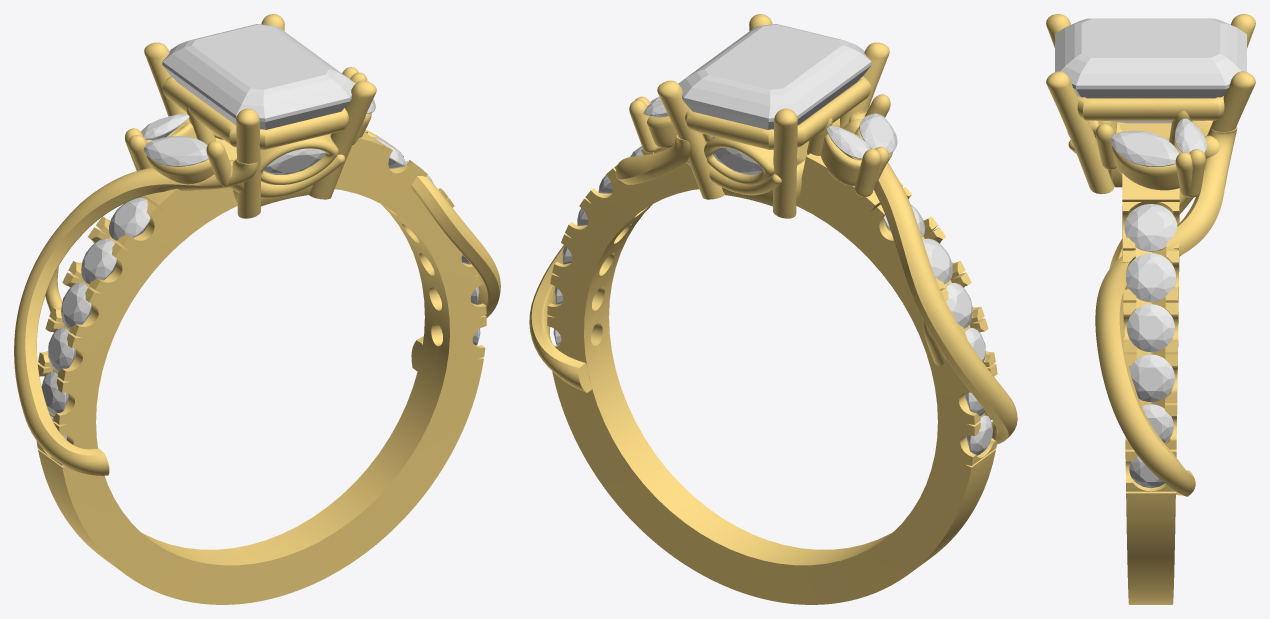
Rendered from StephanV1YG_blender.glb.
The picture shows the model from 3 angles, left to right: view 1: azimuth 30°, elevation 25°; view 2: azimuth 150°, elevation 25°; view 3: azimuth 270°, elevation 25°; orthographic projection.
Parts seen in each view (by area): view 1: V1 Stephan YG for 3d model, V1 Stephan center dia for 3d model, V1 Stephan shaped dia for 3d model.003, V1 Stephan round dia for 3d model.006, V1 Stephan round dia for 3d model.007, V1 Stephan shaped dia for 3d model.001, V1 Stephan round dia for 3d model.008, V1 Stephan round dia for 3d model.009, V1 Stephan round dia for 3d model.010, V1 Stephan shaped dia for 3d model.002; view 2: V1 Stephan YG for 3d model, V1 Stephan center dia for 3d model, V1 Stephan shaped dia for 3d model.003, V1 Stephan round dia for 3d model.008, V1 Stephan round dia for 3d model.007, V1 Stephan shaped dia for 3d model, V1 Stephan shaped dia for 3d model.002; view 3: V1 Stephan YG for 3d model, V1 Stephan center dia for 3d model, V1 Stephan round dia for 3d model.005, V1 Stephan round dia for 3d model.004, V1 Stephan shaped dia for 3d model.004, V1 Stephan round dia for 3d model.003, V1 Stephan round dia for 3d model.002, V1 Stephan shaped dia for 3d model.005, V1 Stephan round dia for 3d model.001, V1 Stephan round dia for 3d model.
Part boxes in pixels (bbox=[...]): V1 Stephan YG for 3d model: bbox=[14, 14, 500, 604]; V1 Stephan center dia for 3d model: bbox=[162, 24, 355, 129]; V1 Stephan shaped dia for 3d model.003: bbox=[143, 135, 208, 166]; V1 Stephan round dia for 3d model.006: bbox=[109, 197, 150, 240]; V1 Stephan round dia for 3d model.007: bbox=[81, 238, 116, 284]; V1 Stephan shaped dia for 3d model.001: bbox=[263, 148, 325, 174]; V1 Stephan round dia for 3d model.008: bbox=[61, 283, 91, 328]; V1 Stephan round dia for 3d model.009: bbox=[48, 328, 75, 371]; V1 Stephan round dia for 3d model.010: bbox=[41, 372, 68, 415]; V1 Stephan shaped dia for 3d model.002: bbox=[141, 113, 189, 140]; V1 Stephan YG for 3d model: bbox=[529, 14, 1017, 604]; V1 Stephan center dia for 3d model: bbox=[678, 24, 871, 129]; V1 Stephan shaped dia for 3d model.003: bbox=[859, 113, 897, 153]; V1 Stephan round dia for 3d model.008: bbox=[946, 283, 972, 328]; V1 Stephan round dia for 3d model.007: bbox=[922, 238, 952, 284]; V1 Stephan shaped dia for 3d model: bbox=[713, 147, 763, 175]; V1 Stephan shaped dia for 3d model.002: bbox=[826, 125, 870, 158]; V1 Stephan YG for 3d model: bbox=[1046, 14, 1255, 604]; V1 Stephan center dia for 3d model: bbox=[1055, 18, 1246, 123]; V1 Stephan round dia for 3d model.005: bbox=[1124, 204, 1177, 251]; V1 Stephan round dia for 3d model.004: bbox=[1126, 253, 1176, 302]; V1 Stephan shaped dia for 3d model.004: bbox=[1110, 130, 1178, 166]; V1 Stephan round dia for 3d model.003: bbox=[1127, 304, 1174, 352]; V1 Stephan round dia for 3d model.002: bbox=[1129, 354, 1174, 401]; V1 Stephan shaped dia for 3d model.005: bbox=[1175, 118, 1206, 152]; V1 Stephan round dia for 3d model.001: bbox=[1142, 404, 1173, 442]; V1 Stephan round dia for 3d model: bbox=[1129, 455, 1164, 488].
Size of the model in its own units: 23.19 by 24.99 by 8.75.
